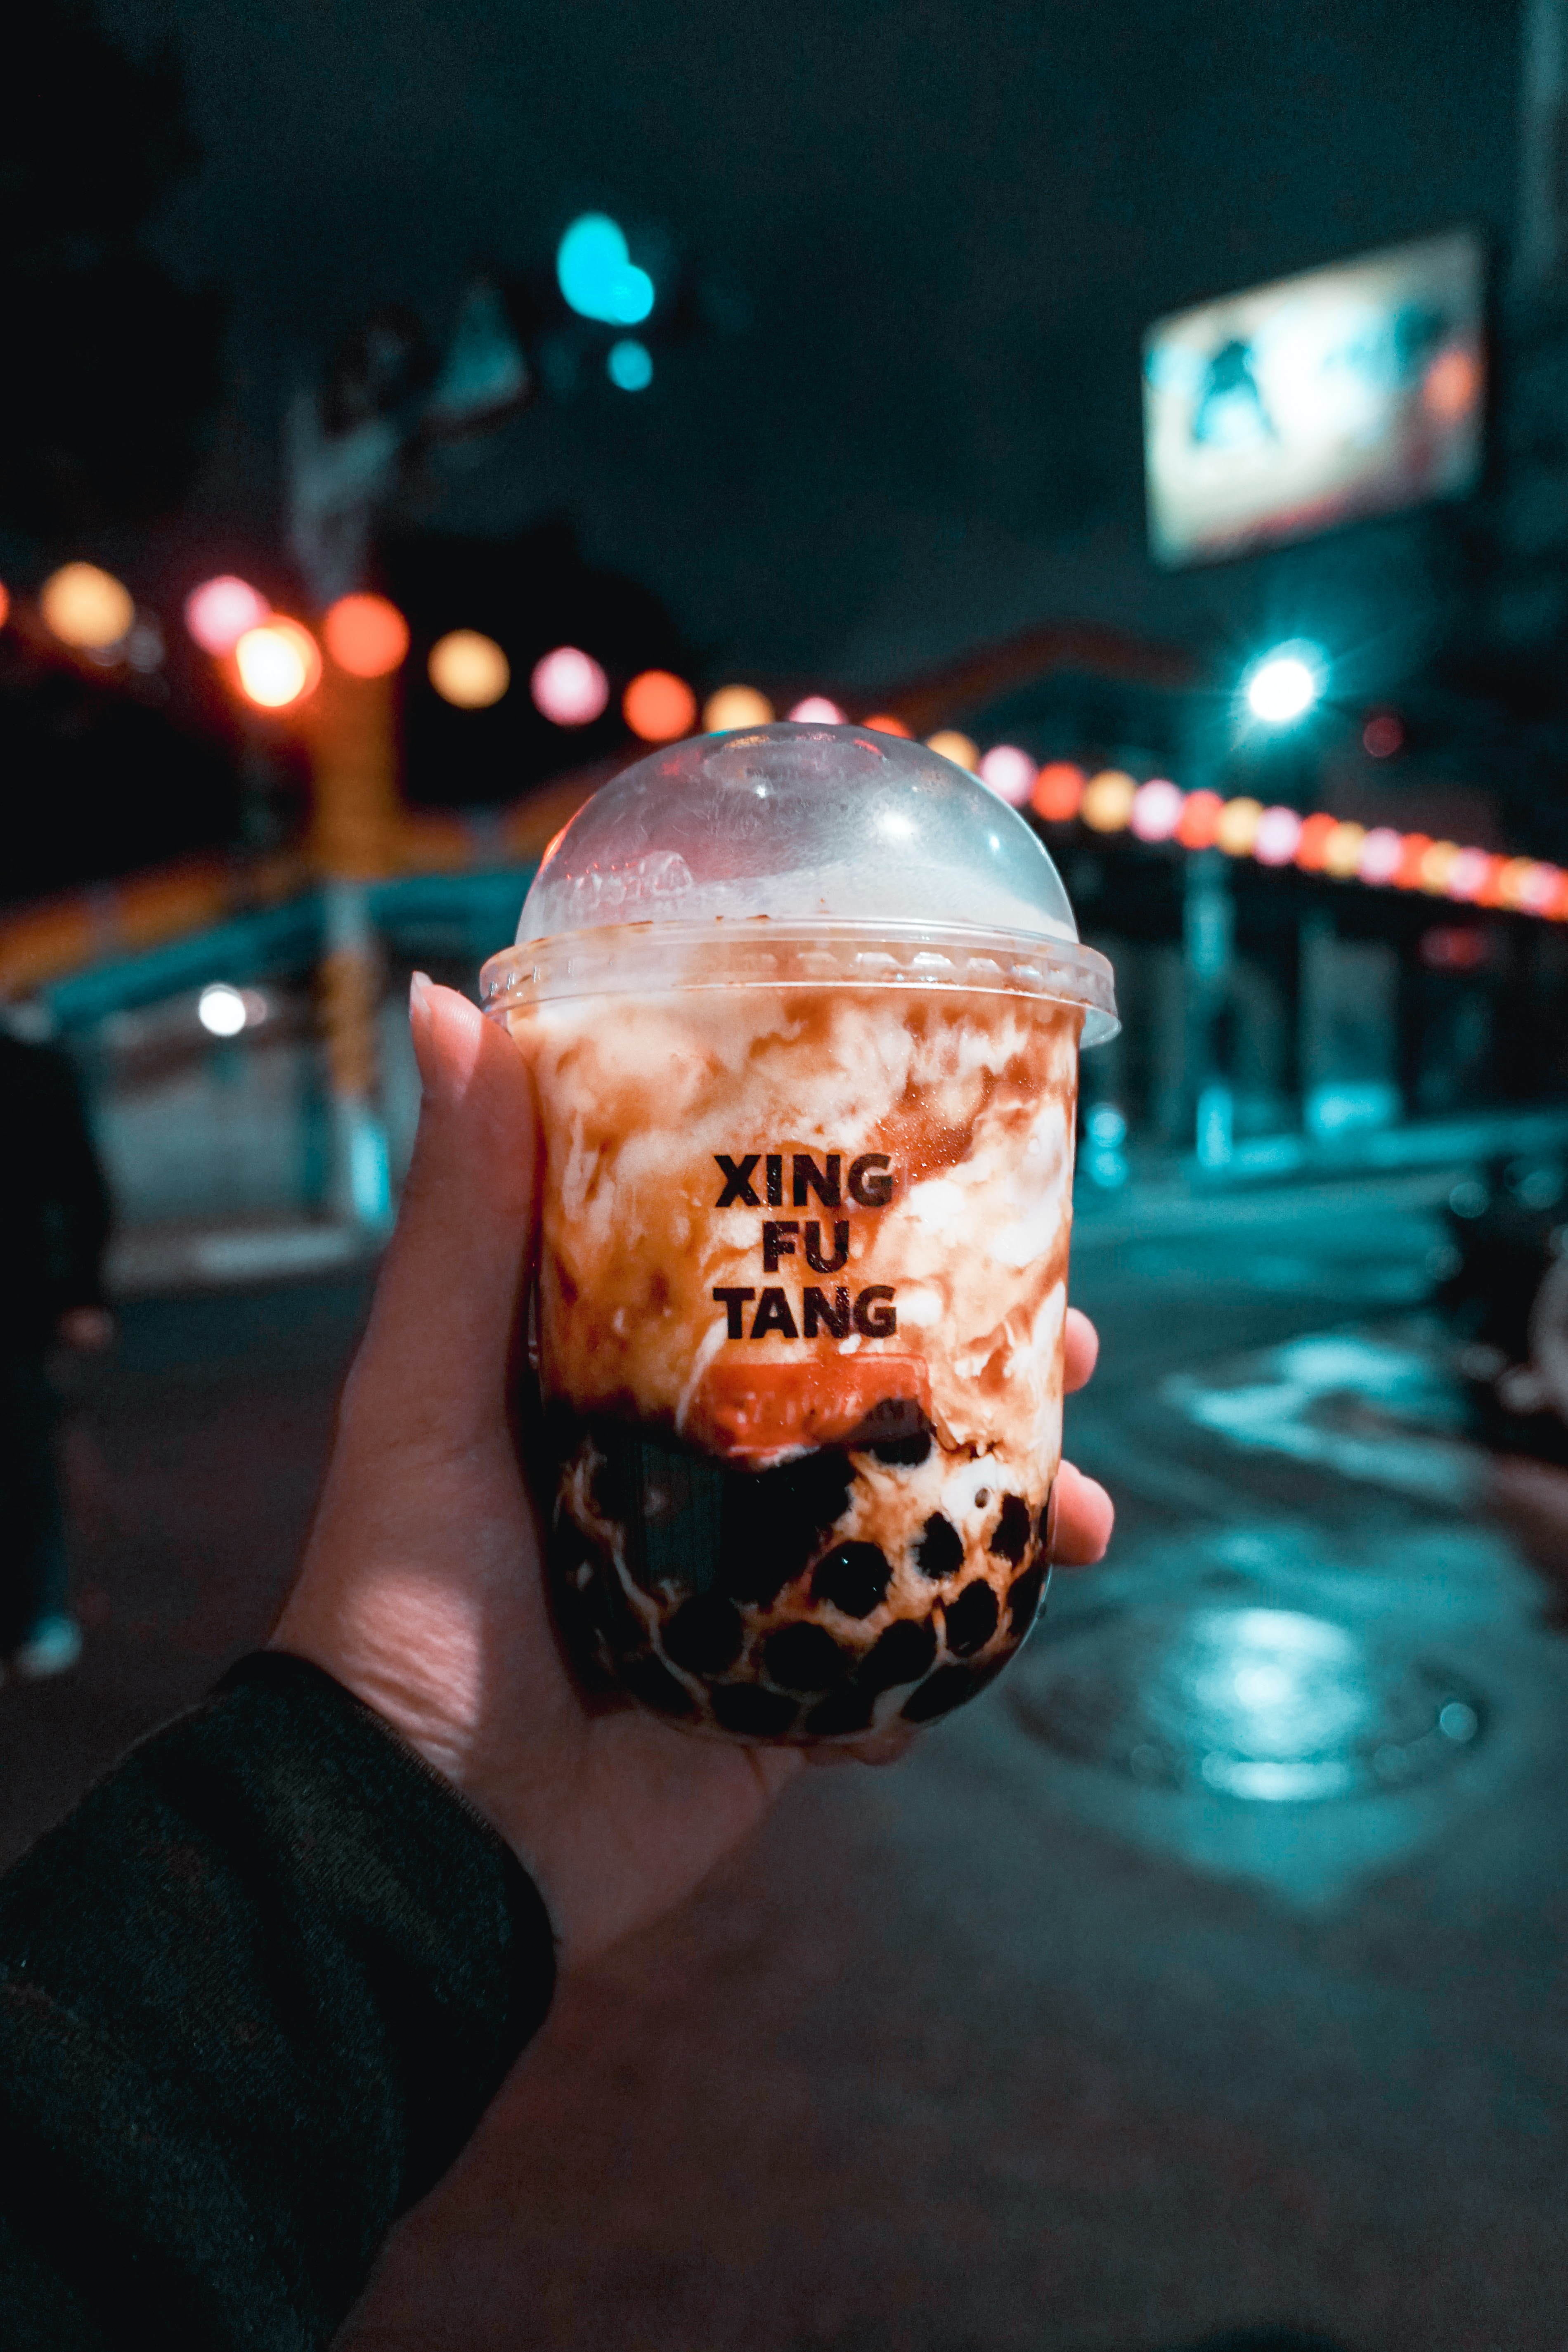boba: (693, 1465, 807, 1591), (758, 1622, 845, 1699), (665, 1594, 745, 1675), (780, 1447, 854, 1524), (618, 1645, 695, 1718), (625, 1516, 693, 1594), (817, 1540, 889, 1613), (584, 1573, 647, 1645), (864, 1620, 934, 1683), (861, 1400, 933, 1461), (651, 1428, 710, 1500), (906, 1664, 973, 1725), (941, 1584, 999, 1654), (590, 1461, 646, 1523), (562, 1516, 616, 1579), (590, 1395, 639, 1458), (987, 1491, 1031, 1559), (539, 1395, 581, 1461), (1010, 1561, 1048, 1631), (917, 1519, 961, 1579)
